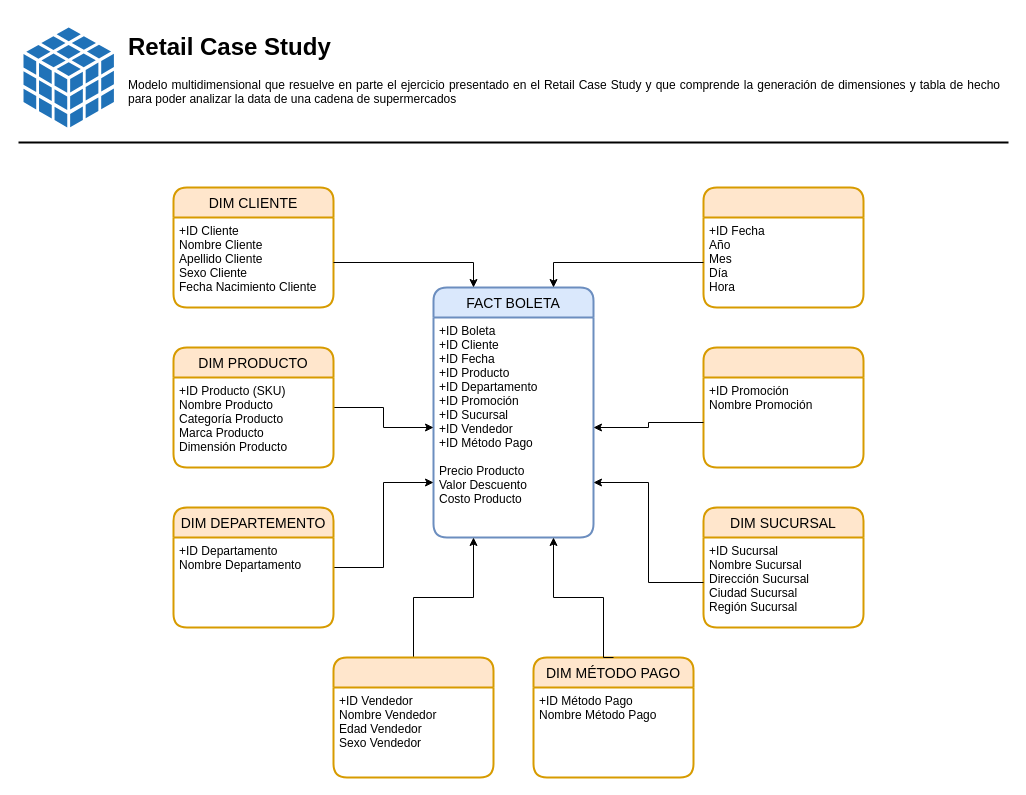
Some shapes in this 1026 by 795 pixel diagram are drawn without their labels. Each missing label, with the box of its shape:
DIM PROMOCIÓN: (702, 346, 864, 468)
DIM TIEMPO: (702, 186, 864, 308)
DIM VENDEDOR: (332, 656, 494, 778)
